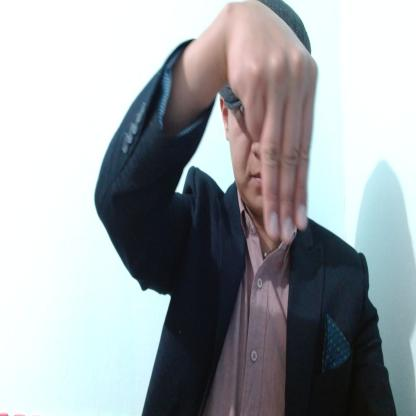M: (224, 0, 317, 244)
